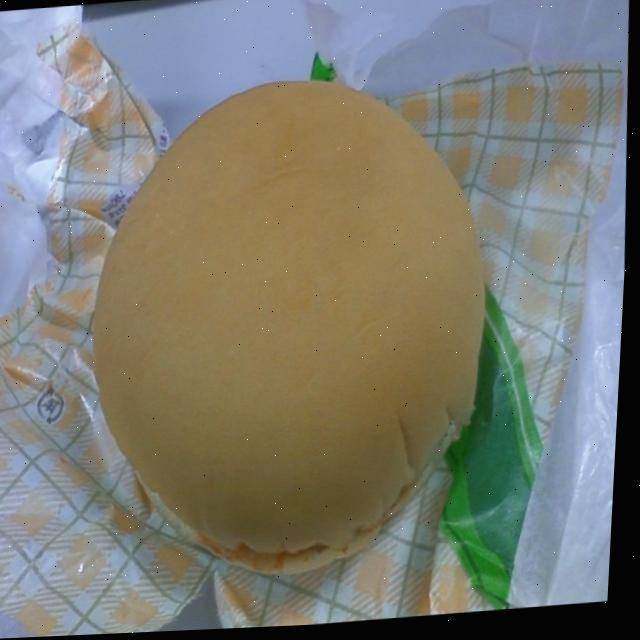汉堡快餐: (74, 39, 529, 578)
